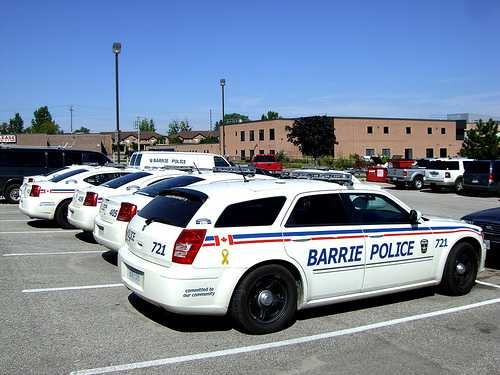Police Car: (113, 165, 500, 336)
